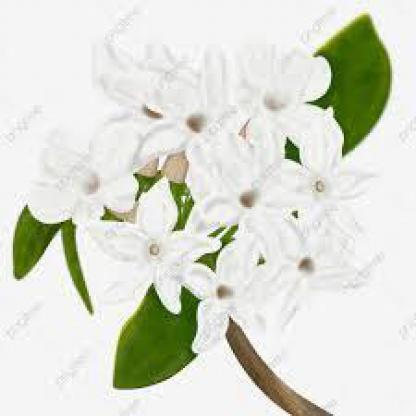Melati: (27, 23, 369, 347)
